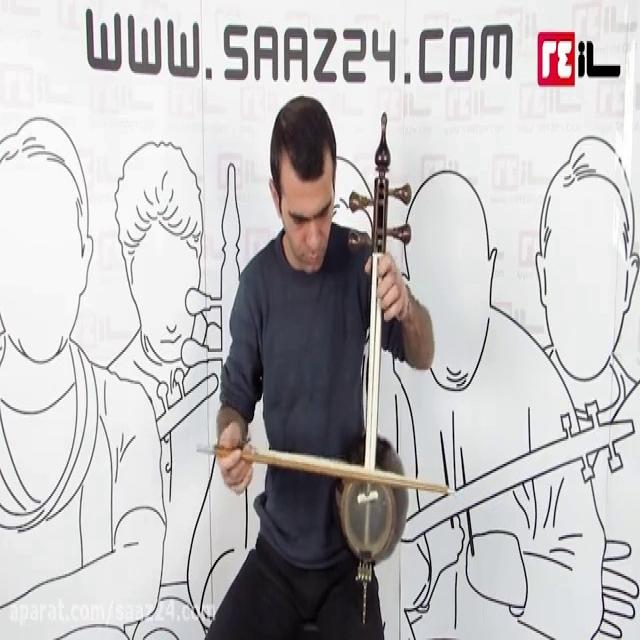Kamanche: (312, 96, 422, 597)
